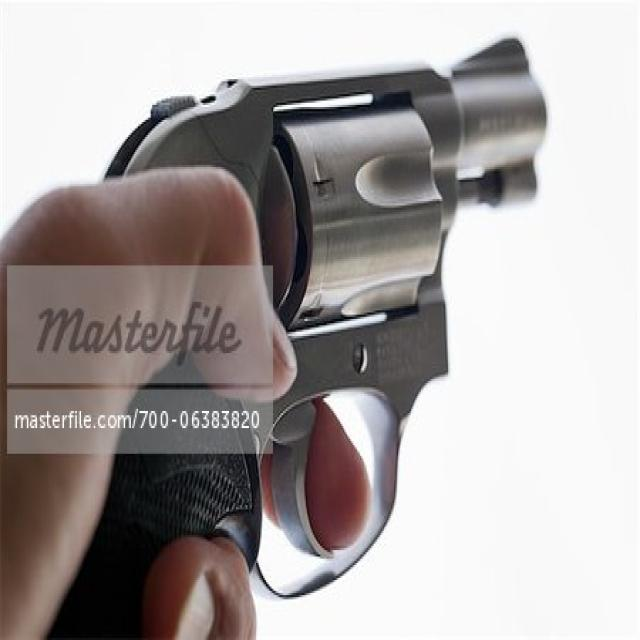HandGun: (47, 39, 546, 640)
